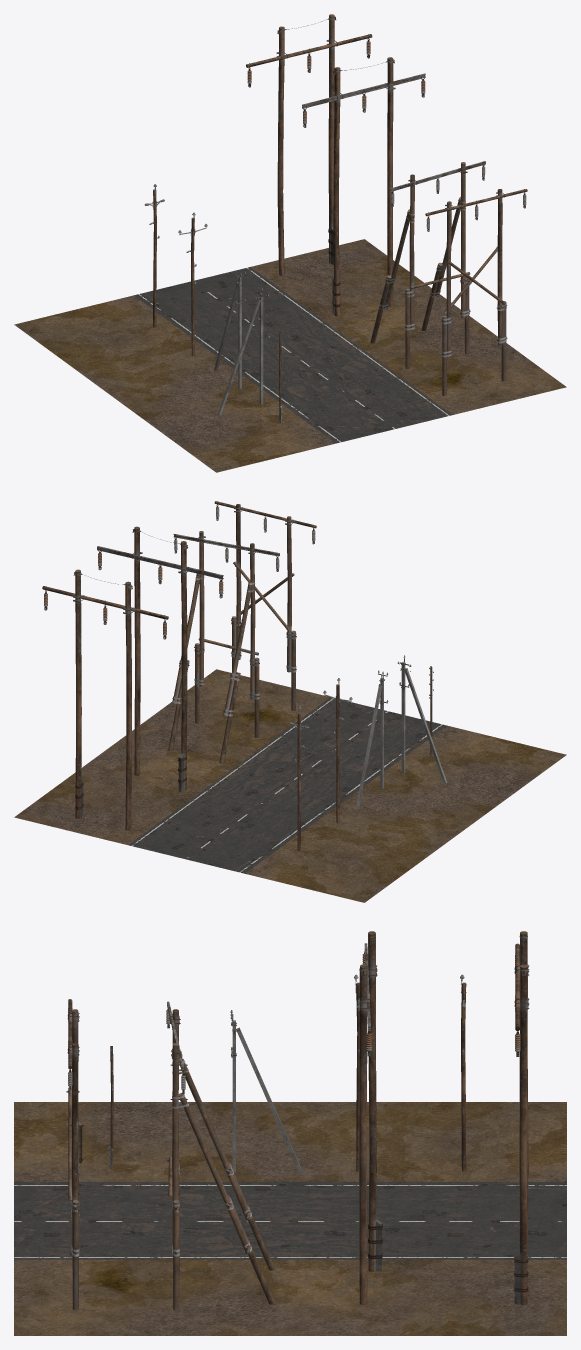
The model's file is power_line_pack.glb.
The picture shows the model from 3 angles, top to bottom: view 1: azimuth 30°, elevation 25°; view 2: azimuth 150°, elevation 25°; view 3: azimuth 270°, elevation 25°; orthographic projection. The views are drawn at different scales.
Visible parts, largest first — view 1: Plane, POST_1_LOW_POLY.002, POST_1_LOW_POLY.003, POST_2_LOW_POLY.003, POST_2_LOW_POLY.002, POST_2_LOW_POLY.001, POST_3_LOW_POLY, HOLDER_1_LOW_POLY.002; view 2: Plane, POST_1_LOW_POLY.002, POST_2_LOW_POLY.003, POST_1_LOW_POLY.003, POST_2_LOW_POLY.002, POST_2_LOW_POLY.001, POST_3_LOW_POLY, HOLDER_1_LOW_POLY.002, POST_2_LOW_POLY, POST_1_LOW_POLY, HOLDER_2_LOW_POLY.002; view 3: Plane, POST_1_LOW_POLY.003, POST_1_LOW_POLY.002, POST_2_LOW_POLY.003, POST_2_LOW_POLY.002, POST_3_LOW_POLY, POST_2_LOW_POLY, POST_1_LOW_POLY.
Boxes of the visible parts, x1,y1,x2,y2 form: Plane: (14,239,566,472); POST_1_LOW_POLY.002: (370,162,470,368); POST_1_LOW_POLY.003: (333,57,393,316); POST_2_LOW_POLY.003: (277,14,334,275); POST_2_LOW_POLY.002: (442,189,506,395); POST_2_LOW_POLY.001: (218,293,263,414); POST_3_LOW_POLY: (214,277,241,388); HOLDER_1_LOW_POLY.002: (302,73,425,108); Plane: (14,669,566,902); POST_1_LOW_POLY.002: (168,531,259,763); POST_2_LOW_POLY.003: (75,569,131,830); POST_1_LOW_POLY.003: (134,526,187,790); POST_2_LOW_POLY.002: (232,504,295,710); POST_2_LOW_POLY.001: (401,661,447,783); POST_3_LOW_POLY: (356,677,383,806); HOLDER_1_LOW_POLY.002: (97,546,223,579); POST_2_LOW_POLY: (297,712,300,850); POST_1_LOW_POLY: (336,684,339,822); HOLDER_2_LOW_POLY.002: (42,586,168,619); Plane: (14,1102,566,1335); POST_1_LOW_POLY.003: (359,931,376,1304); POST_1_LOW_POLY.002: (168,1009,275,1310); POST_2_LOW_POLY.003: (519,931,528,1304); POST_2_LOW_POLY.002: (68,1009,82,1310); POST_3_LOW_POLY: (232,1020,302,1172); POST_2_LOW_POLY: (461,982,466,1171); POST_1_LOW_POLY: (356,982,359,1171).
Size of the model in its own units: 2000 by 1393 by 2000.
Materials: 5 (5 with a texture image).
